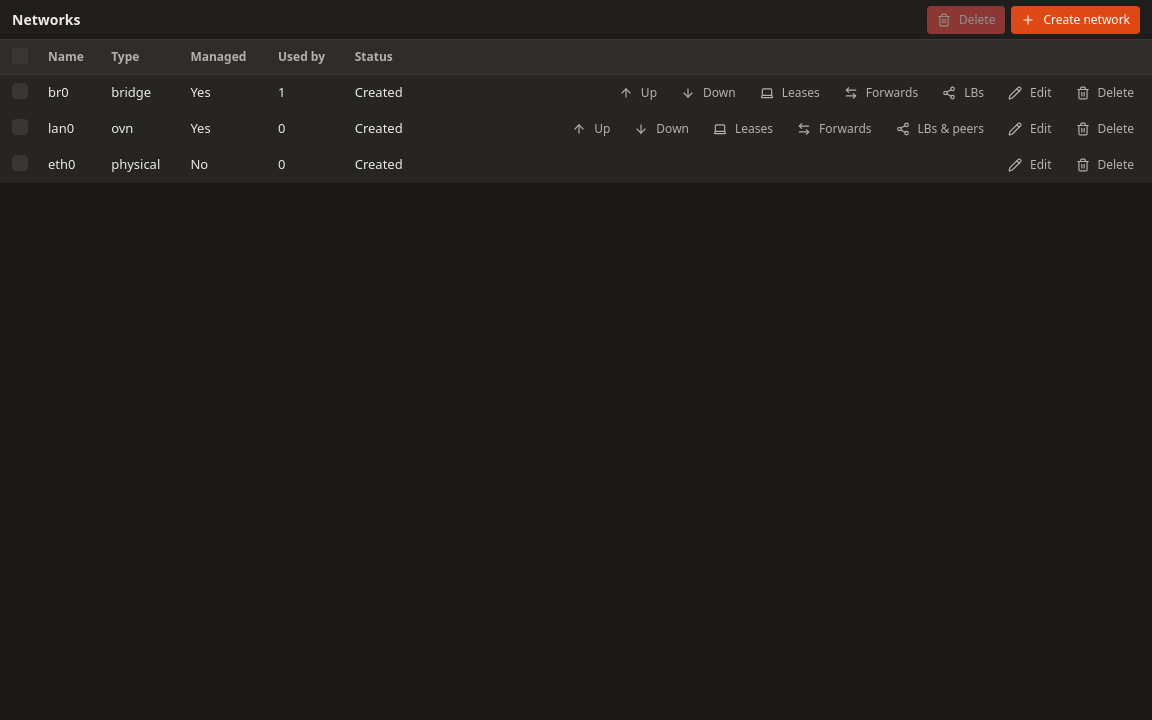
NetworksPage › shows leases for managed networks only
The width and height of the screenshot is (1152, 720).
Expected: the text "br0" is shown, [48,83,69,101]
Click the button with test id "network-leases-br0": (790, 93) [750,79,830,107]
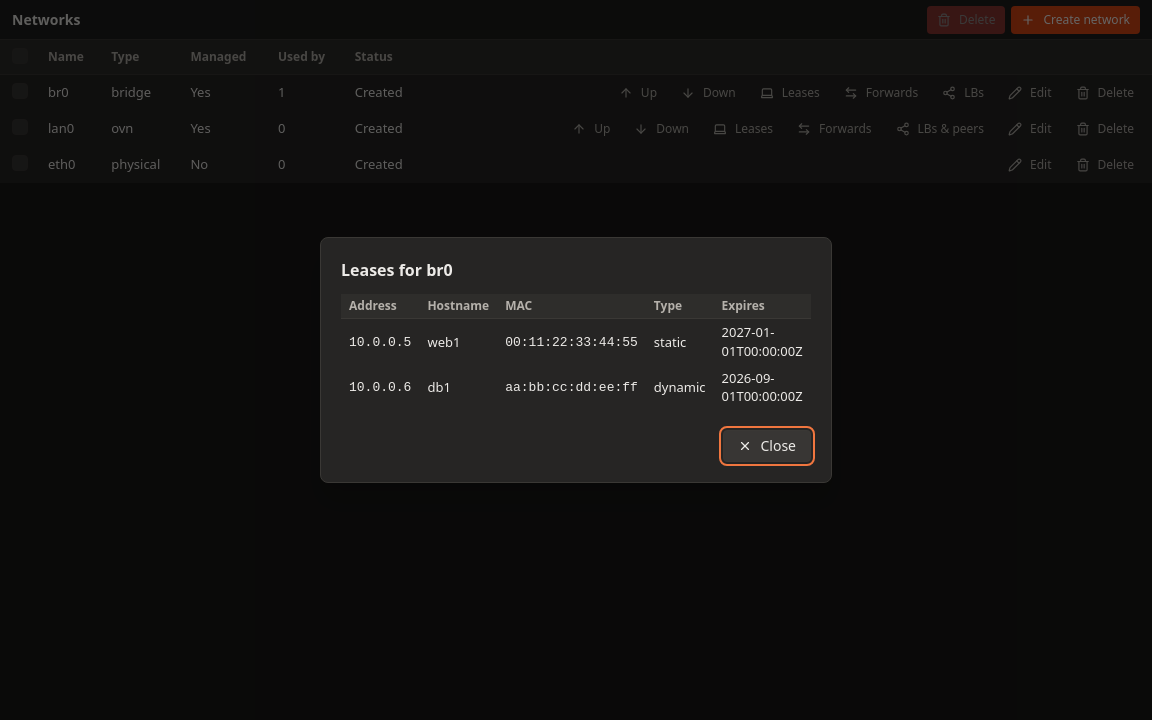
Now the table with test id "network-leases-table" is shown, box [341,294,811,410]
Now the text "10.0.0.5" is shown, box [349,335,411,350]
Now the text "web1" is shown, box [419,319,497,364]
